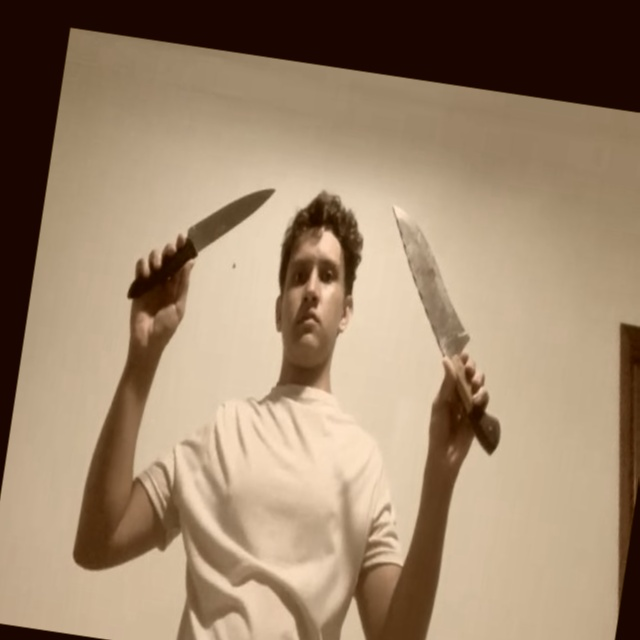Sharp-Object: (374, 202, 490, 353), (187, 175, 276, 265)
